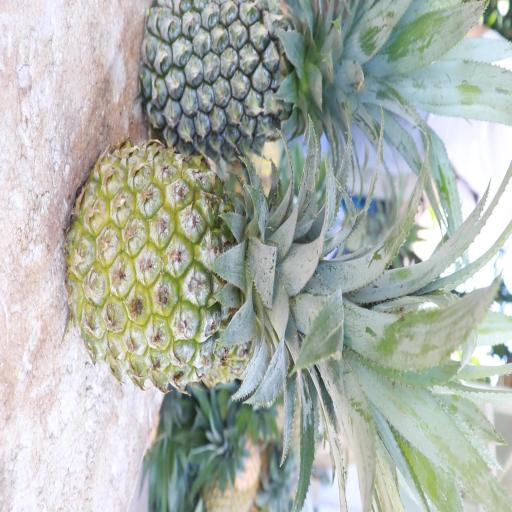------------------------------: (60, 136, 358, 397)
